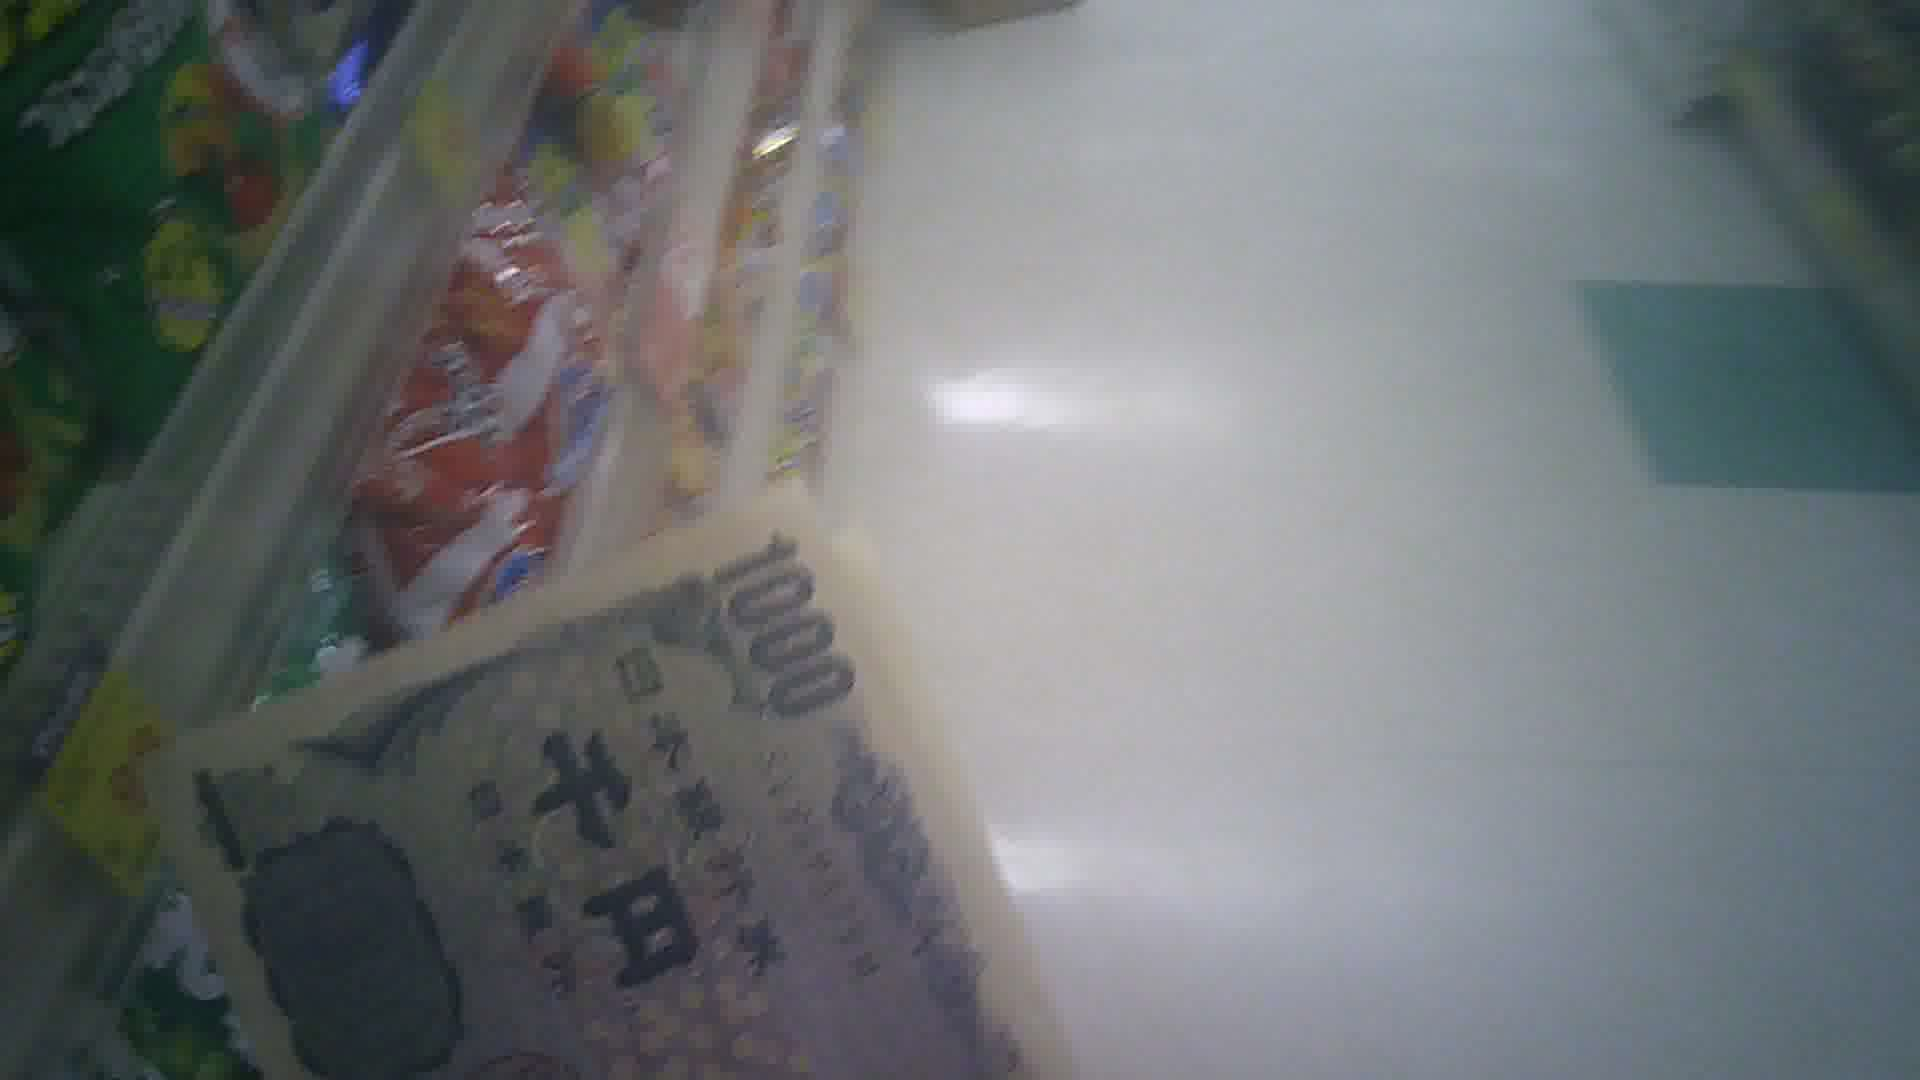1,000 Yen: (152, 498, 1040, 1079)
